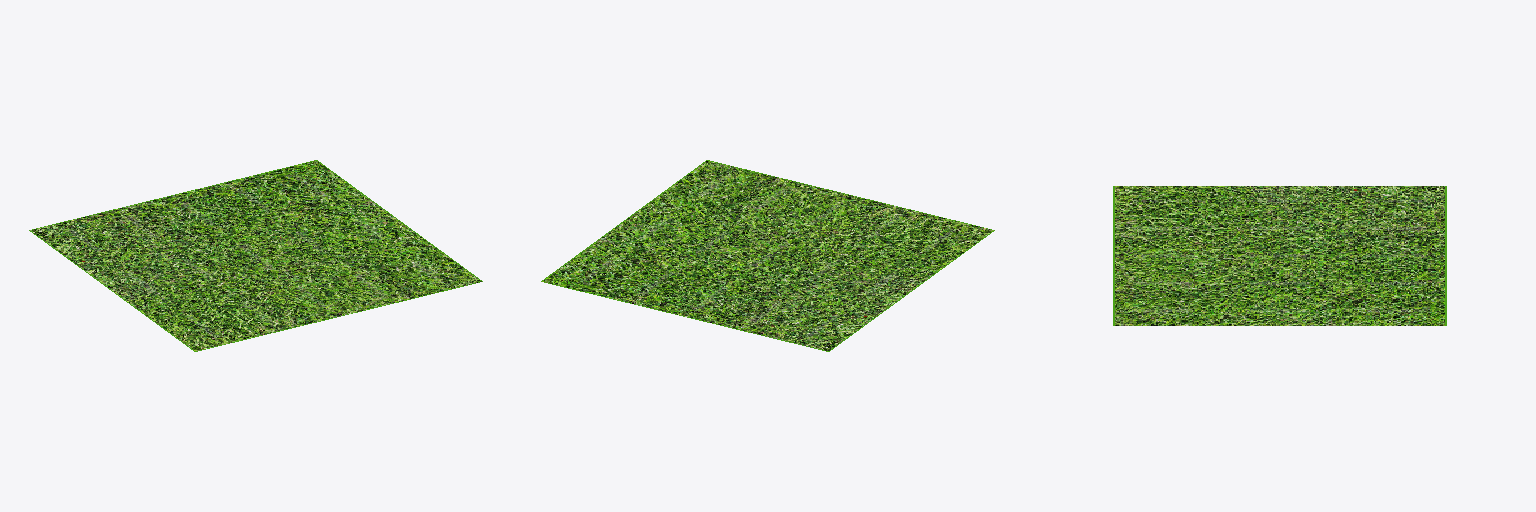
3 views of the same model, side by side, from view 1: azimuth 30°, elevation 25°; view 2: azimuth 150°, elevation 25°; view 3: azimuth 270°, elevation 25° (orthographic).
Visible parts, largest first — view 1: Cube_Cube_Material.001; view 2: Cube_Cube_Material.001; view 3: Cube_Cube_Material.001.
Part boxes in pixels (left/top/right/bottom): Cube_Cube_Material.001: left=29, top=160, right=482, bottom=351; Cube_Cube_Material.001: left=541, top=160, right=994, bottom=351; Cube_Cube_Material.001: left=1113, top=186, right=1446, bottom=325.
Bounding box in the file's own units: 1 × 0 × 1.
Materials: 1 (1 with a texture image).